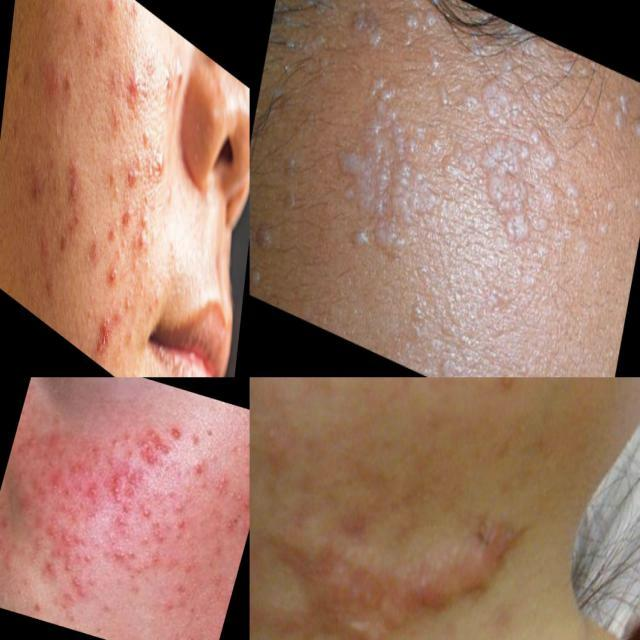Pimples: (272, 418, 535, 640), (313, 60, 466, 285), (454, 61, 588, 272), (308, 0, 471, 98), (272, 136, 316, 225), (250, 202, 284, 301), (603, 81, 640, 165), (64, 166, 84, 214), (136, 444, 170, 470), (134, 201, 150, 255), (151, 143, 169, 190), (125, 69, 142, 111), (105, 483, 126, 508), (107, 254, 120, 292), (172, 515, 192, 538), (169, 424, 189, 446), (135, 505, 155, 524), (240, 494, 250, 520), (44, 478, 58, 496), (122, 358, 132, 377)
